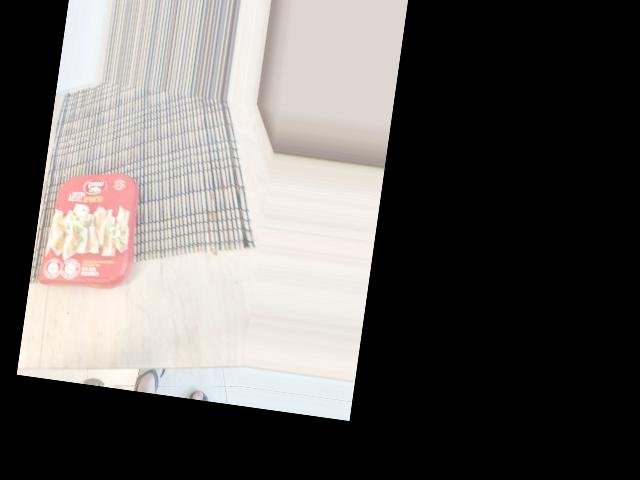cheese: (119, 217, 252, 326)
